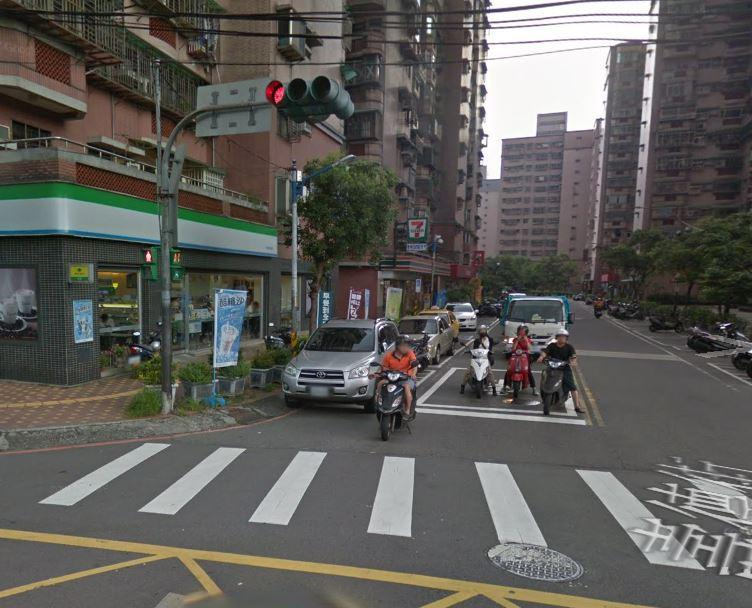red_traffic_light: (263, 75, 341, 105)
